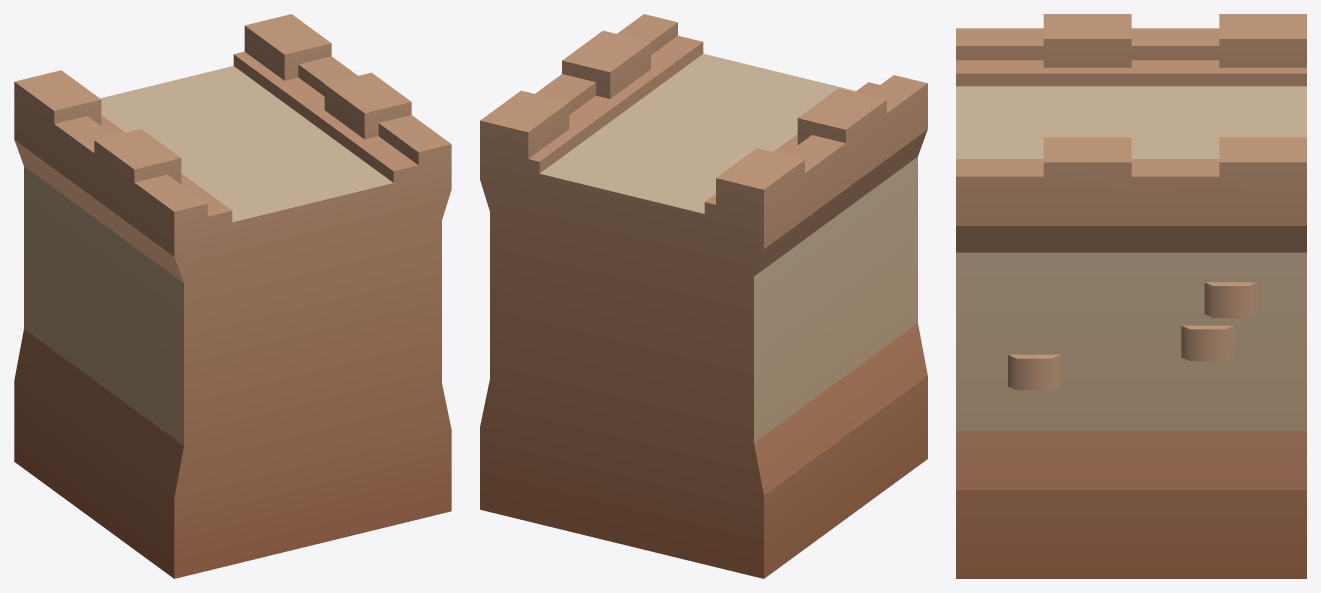
The model's file is wall.glb.
The picture shows the model from 3 angles, left to right: view 1: azimuth 30°, elevation 25°; view 2: azimuth 150°, elevation 25°; view 3: azimuth 270°, elevation 25°; orthographic projection. The views are drawn at different scales.
Visible parts, largest first — view 1: wall; view 2: wall; view 3: wall.
Boxes of the visible parts, box(x1,y1,x2,y2) form: wall: box(14, 14, 451, 578); wall: box(480, 14, 927, 578); wall: box(956, 14, 1306, 578).
Size of the model in its own units: 1 by 1.31 by 1.
